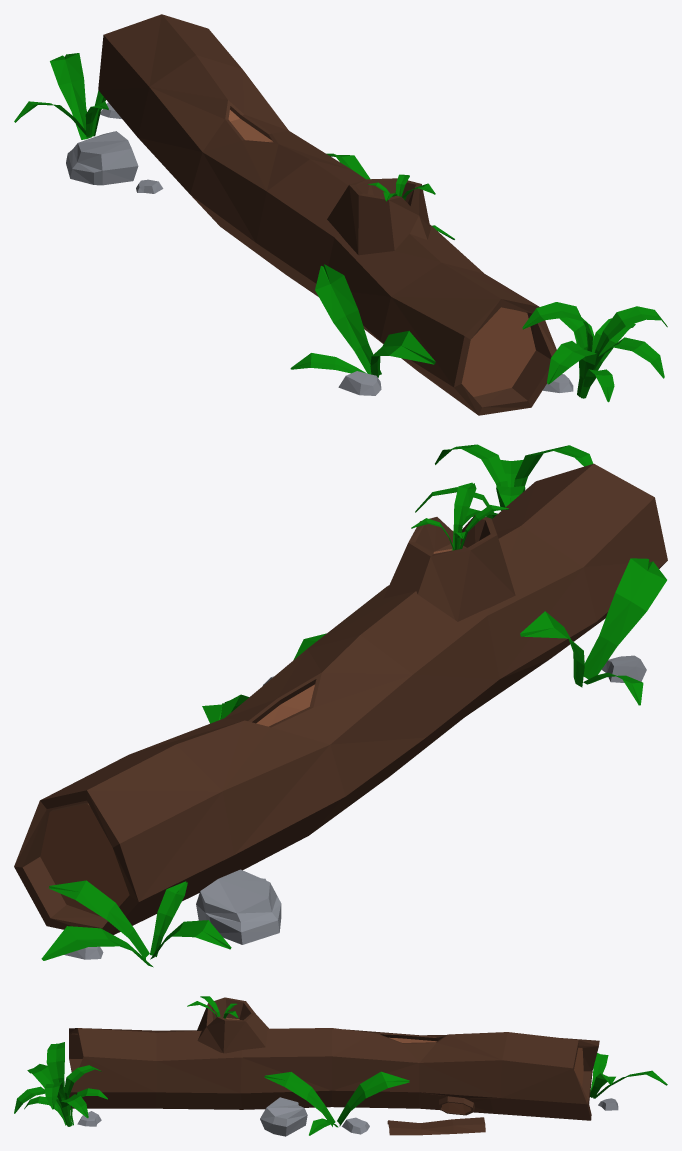
Rendered from SM_Fallen_Log.fbx.
3 views of the same model, one above another, from view 1: azimuth 30°, elevation 25°; view 2: azimuth 150°, elevation 25°; view 3: azimuth 270°, elevation 25° (orthographic). The views are drawn at different scales.
Visible parts, largest first — view 1: SM_Fallen_Log; view 2: SM_Fallen_Log; view 3: SM_Fallen_Log.
Part boxes in pixels (box(x1,y1,x2,y2)): SM_Fallen_Log: box(14, 14, 667, 415); SM_Fallen_Log: box(14, 444, 667, 967); SM_Fallen_Log: box(14, 996, 667, 1136).
Size of the model in its own units: 45.91 by 26.19 by 144.
